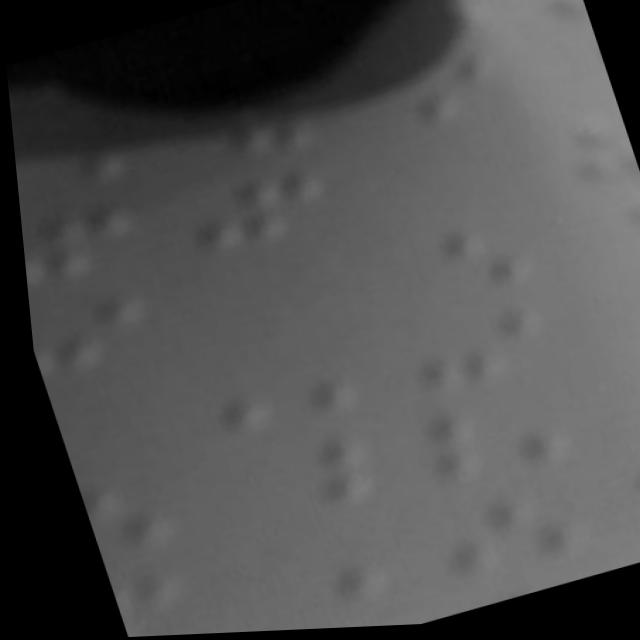braiile: (415, 471, 595, 592), (189, 330, 352, 449), (374, 214, 547, 325), (385, 300, 557, 407), (407, 388, 575, 496), (171, 155, 336, 264), (229, 524, 392, 632), (229, 423, 390, 532), (14, 185, 154, 295), (22, 279, 163, 385), (612, 449, 640, 547)
